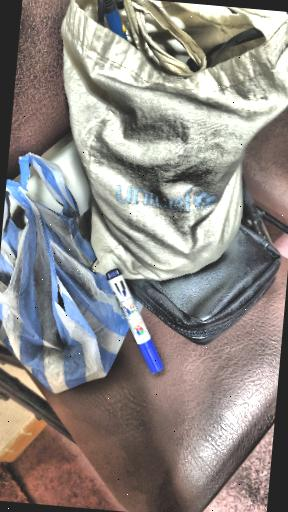marcador azul: (106, 268, 162, 372)
